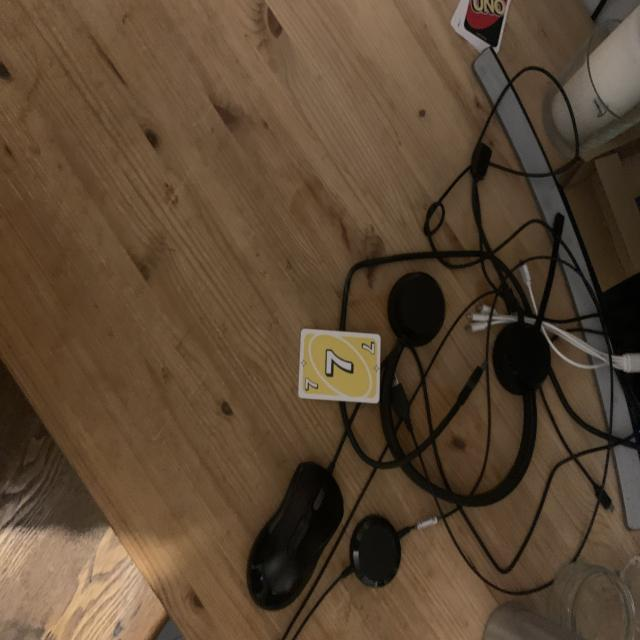lyellow-7: (303, 374, 320, 395)
